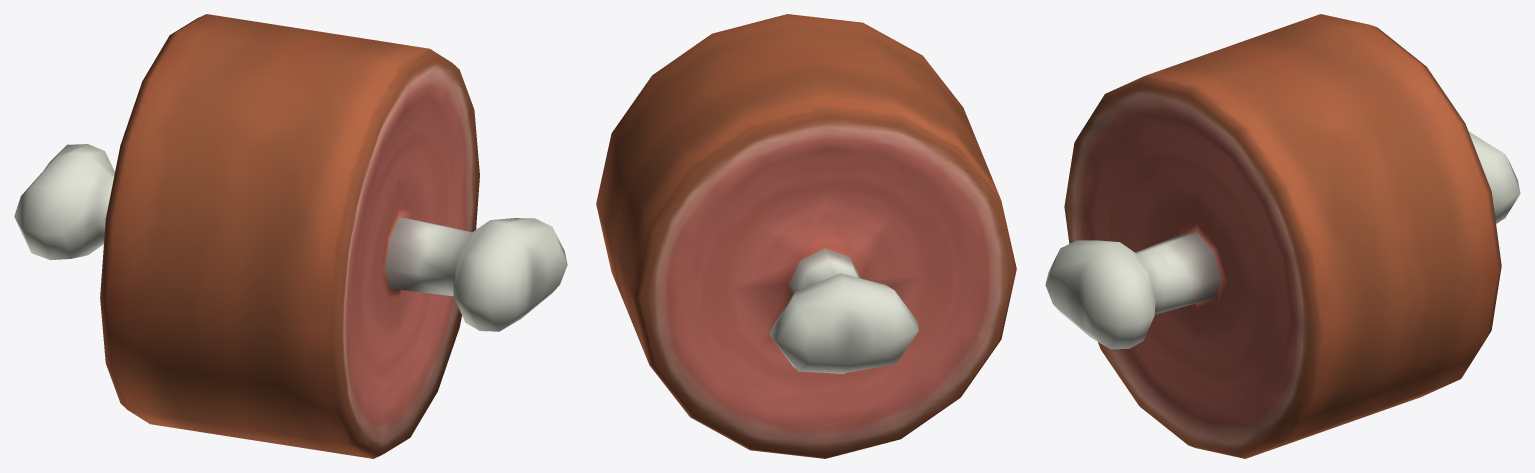
The model's file is MeatOne.fbx.
3 renders of one model, left to right at view 1: azimuth 30°, elevation 25°; view 2: azimuth 150°, elevation 25°; view 3: azimuth 270°, elevation 25°, orthographic. The views are drawn at different scales.
Visible parts, largest first — view 1: Cube.023_Cube.032; view 2: Cube.023_Cube.032; view 3: Cube.023_Cube.032.
Part boxes in pixels (x1,y1,x2,y2): Cube.023_Cube.032: (14,14,567,458); Cube.023_Cube.032: (596,14,1016,458); Cube.023_Cube.032: (1045,14,1520,458).
Bounding box in the file's own units: 90.27 × 78.98 × 94.17.
Materials: 2 (2 with a texture image).
